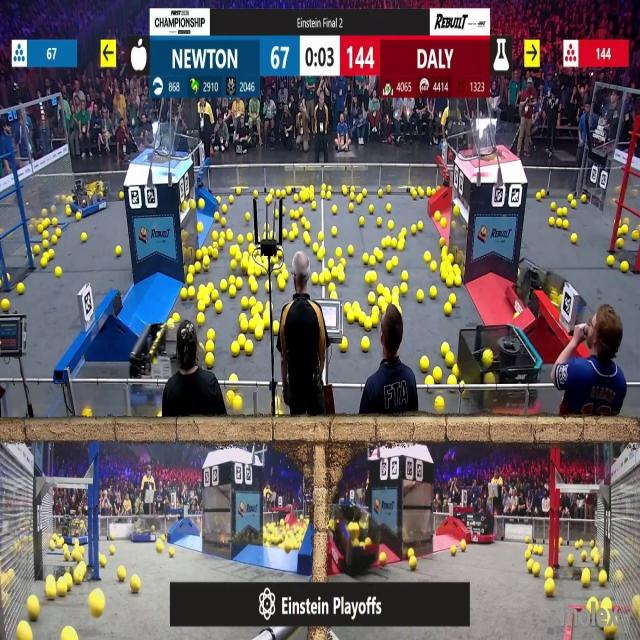ball_ground: (92, 592, 105, 616), (29, 597, 40, 620), (19, 623, 32, 640), (544, 581, 554, 598), (582, 570, 592, 587), (46, 584, 56, 600), (58, 582, 68, 598), (604, 625, 614, 640), (598, 570, 607, 586), (63, 628, 76, 639), (132, 578, 140, 595), (434, 397, 443, 412), (74, 569, 83, 583), (421, 356, 429, 371), (254, 326, 263, 339), (206, 353, 214, 367), (1, 300, 9, 314), (245, 342, 253, 356), (66, 575, 74, 589), (319, 273, 328, 285), (410, 557, 418, 570), (361, 339, 369, 352), (433, 367, 441, 380), (446, 353, 454, 366), (544, 567, 553, 578), (233, 343, 240, 357), (342, 339, 349, 353), (235, 396, 242, 410), (367, 292, 375, 304), (250, 282, 258, 294), (278, 280, 286, 292), (347, 312, 355, 324), (186, 286, 194, 298), (240, 320, 248, 332), (445, 305, 453, 317), (376, 250, 384, 262), (357, 312, 365, 324), (117, 567, 124, 580), (273, 321, 280, 334), (16, 283, 24, 294), (622, 263, 630, 274), (442, 344, 450, 355), (198, 314, 206, 325), (452, 364, 460, 375), (264, 317, 272, 328), (215, 302, 222, 314), (380, 553, 387, 565), (100, 555, 107, 567), (242, 296, 249, 308), (180, 288, 187, 300), (532, 564, 539, 576), (364, 318, 371, 330), (231, 246, 238, 258), (206, 342, 214, 352), (198, 302, 206, 312), (454, 277, 462, 287), (219, 281, 227, 291), (426, 376, 434, 386), (368, 273, 376, 283), (82, 410, 90, 420), (418, 289, 424, 302), (399, 283, 406, 294), (227, 276, 234, 287), (211, 248, 218, 259), (602, 598, 609, 609), (430, 286, 436, 298), (312, 274, 318, 286), (238, 336, 246, 345), (373, 316, 381, 325), (450, 294, 457, 304), (186, 275, 193, 285), (618, 239, 625, 249), (56, 268, 63, 278), (330, 270, 337, 280), (155, 540, 162, 550), (230, 286, 237, 296), (556, 217, 563, 227), (382, 239, 389, 249), (255, 304, 262, 314), (570, 234, 576, 245), (208, 328, 214, 339), (340, 273, 346, 284), (362, 253, 368, 264), (237, 278, 243, 289), (424, 251, 430, 262), (304, 234, 310, 245), (194, 250, 200, 261), (448, 276, 454, 287), (379, 294, 385, 305), (449, 377, 457, 385), (316, 252, 324, 260), (328, 283, 335, 292), (225, 232, 232, 241), (218, 239, 225, 248), (34, 245, 41, 254), (593, 556, 600, 565), (41, 209, 48, 218), (607, 255, 613, 265), (401, 272, 407, 282), (348, 246, 354, 256), (232, 262, 238, 272), (194, 264, 200, 274), (412, 224, 418, 234), (430, 262, 436, 272), (452, 544, 458, 554), (41, 257, 47, 267), (47, 249, 53, 259), (266, 282, 272, 292), (397, 241, 403, 251), (547, 216, 553, 226), (204, 256, 210, 266), (212, 290, 218, 300), (290, 210, 296, 220), (250, 295, 256, 305), (460, 539, 466, 549), (392, 239, 398, 249), (313, 243, 319, 253), (255, 268, 261, 278), (199, 200, 205, 210), (588, 602, 594, 612), (267, 196, 273, 206), (579, 552, 585, 562), (250, 306, 256, 316), (454, 266, 460, 276), (248, 267, 254, 277), (42, 240, 49, 248), (212, 233, 219, 241), (212, 241, 219, 249), (622, 225, 629, 233), (349, 193, 356, 201), (253, 248, 260, 256), (331, 225, 336, 236), (568, 555, 573, 566), (527, 561, 532, 572), (337, 248, 343, 257), (388, 220, 394, 229), (328, 258, 334, 267), (418, 221, 424, 230), (562, 219, 568, 228), (66, 207, 72, 216), (247, 234, 253, 243), (318, 233, 324, 242), (288, 233, 294, 242), (632, 232, 638, 241), (200, 284, 206, 293), (297, 208, 303, 217), (386, 204, 392, 213), (173, 313, 179, 322), (348, 204, 354, 213), (580, 196, 586, 205), (368, 255, 374, 264), (442, 272, 448, 281), (392, 285, 398, 294), (419, 188, 425, 197), (195, 222, 201, 231), (356, 197, 362, 206), (454, 207, 460, 216), (242, 262, 248, 271), (426, 187, 432, 196), (66, 552, 72, 561), (42, 231, 48, 240), (385, 294, 391, 303), (116, 246, 121, 256), (81, 233, 86, 243), (387, 263, 392, 273), (378, 284, 383, 294), (392, 256, 397, 266), (282, 230, 287, 240), (345, 304, 350, 314), (170, 548, 175, 558), (292, 226, 297, 236), (371, 304, 376, 314), (242, 252, 249, 259), (241, 313, 248, 320), (188, 266, 194, 274), (570, 201, 576, 209), (232, 375, 238, 383), (353, 303, 359, 311), (434, 212, 440, 220), (305, 222, 311, 230), (238, 236, 244, 244), (50, 237, 56, 245), (110, 545, 116, 553), (412, 190, 418, 198), (292, 196, 298, 204), (557, 209, 563, 217), (219, 232, 225, 240), (203, 248, 209, 256), (525, 552, 531, 560), (252, 190, 258, 198), (384, 287, 390, 295), (276, 189, 282, 197), (110, 532, 116, 540), (155, 412, 161, 420), (6, 274, 12, 282), (359, 217, 364, 226), (368, 205, 373, 214), (400, 226, 405, 235), (442, 218, 447, 227), (208, 282, 213, 291), (249, 244, 254, 253), (442, 263, 447, 272), (276, 250, 282, 257), (220, 218, 226, 225), (386, 185, 392, 192), (524, 535, 530, 542), (443, 248, 449, 255), (378, 216, 382, 226), (331, 291, 336, 299), (312, 202, 317, 210), (283, 272, 288, 280), (441, 239, 446, 247), (563, 208, 568, 216), (379, 188, 384, 196), (51, 217, 56, 225), (362, 188, 367, 196), (299, 216, 304, 224), (214, 212, 219, 220), (449, 254, 454, 262), (57, 230, 62, 238), (326, 191, 331, 199), (574, 540, 579, 548), (237, 187, 242, 195), (281, 190, 286, 198), (76, 212, 80, 221), (244, 213, 248, 222), (266, 304, 272, 310), (538, 545, 542, 554), (341, 260, 346, 267), (222, 206, 227, 213), (269, 233, 274, 240), (332, 206, 336, 214), (552, 203, 556, 211), (536, 192, 540, 200), (276, 210, 280, 218), (410, 549, 414, 557), (452, 220, 456, 228), (122, 194, 126, 202), (80, 544, 84, 552), (119, 191, 123, 198), (228, 198, 232, 205), (568, 193, 572, 200), (321, 191, 325, 198), (282, 208, 286, 215), (528, 543, 532, 550), (162, 534, 166, 540)
goal: (466, 122, 522, 160), (131, 128, 188, 162)
robot_blue: (128, 323, 174, 407), (72, 175, 110, 216), (61, 517, 88, 546), (130, 517, 157, 542)
robot_red: (479, 330, 541, 414), (329, 504, 375, 573), (465, 512, 497, 544)
